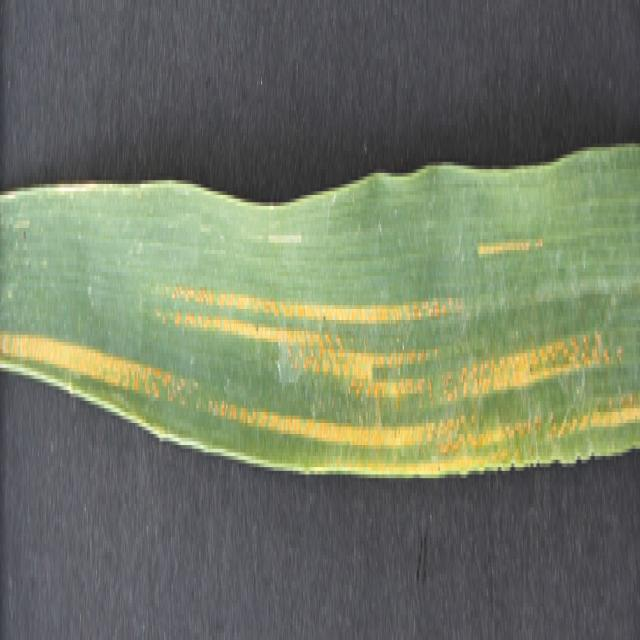leaf rust: (1, 239, 638, 464)
